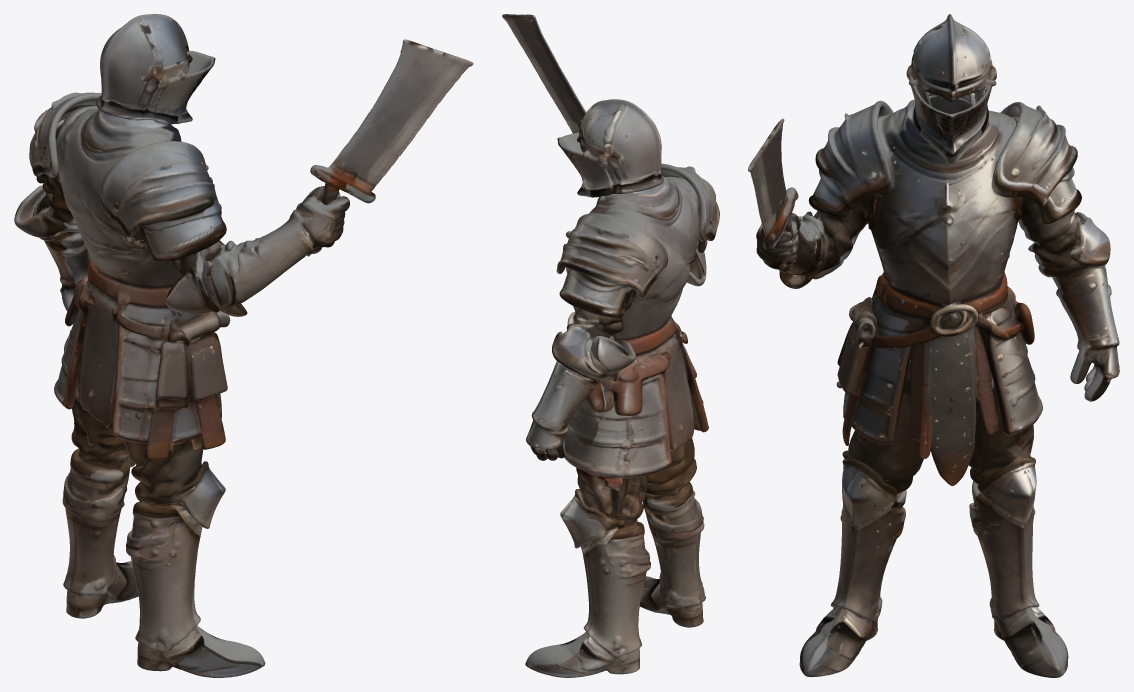
The model's file is tripo_convert_41c53f10-4275-44d5-a15e-d95289829c2b.glb.
The picture shows the model from 3 angles, left to right: view 1: azimuth 30°, elevation 25°; view 2: azimuth 150°, elevation 25°; view 3: azimuth 270°, elevation 25°; orthographic projection. The views are drawn at different scales.
Visible parts, largest first — view 1: tripo_node_41c53f10-4275-44d5-a15e-d95289829c2b; view 2: tripo_node_41c53f10-4275-44d5-a15e-d95289829c2b; view 3: tripo_node_41c53f10-4275-44d5-a15e-d95289829c2b.
Boxes of the visible parts, x1,y1,x2,y2 form: tripo_node_41c53f10-4275-44d5-a15e-d95289829c2b: (14, 14, 473, 677); tripo_node_41c53f10-4275-44d5-a15e-d95289829c2b: (502, 14, 719, 677); tripo_node_41c53f10-4275-44d5-a15e-d95289829c2b: (748, 14, 1119, 677).
Size of the model in its own units: 0.5197 by 1 by 0.5315.
1 material, 1 textured.
